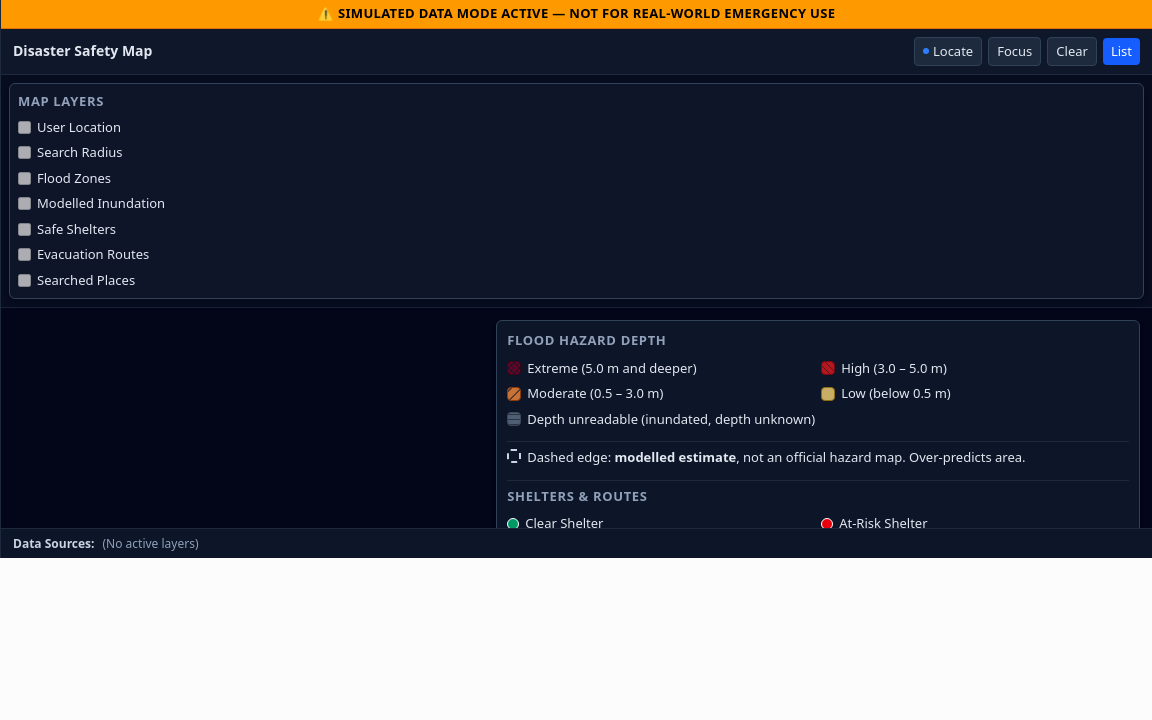
Test: MapPane Component (Phase 9, Checkpoint 9) › Locate reports why it could not get a position (R1.2) › surfaces a blocked permission instead of doing nothing
This screenshot has width=1152, height=720.
Step 1. Click the button with test id "map-btn-locate" → {"x": 948, "y": 51}, box [914, 36, 982, 66]
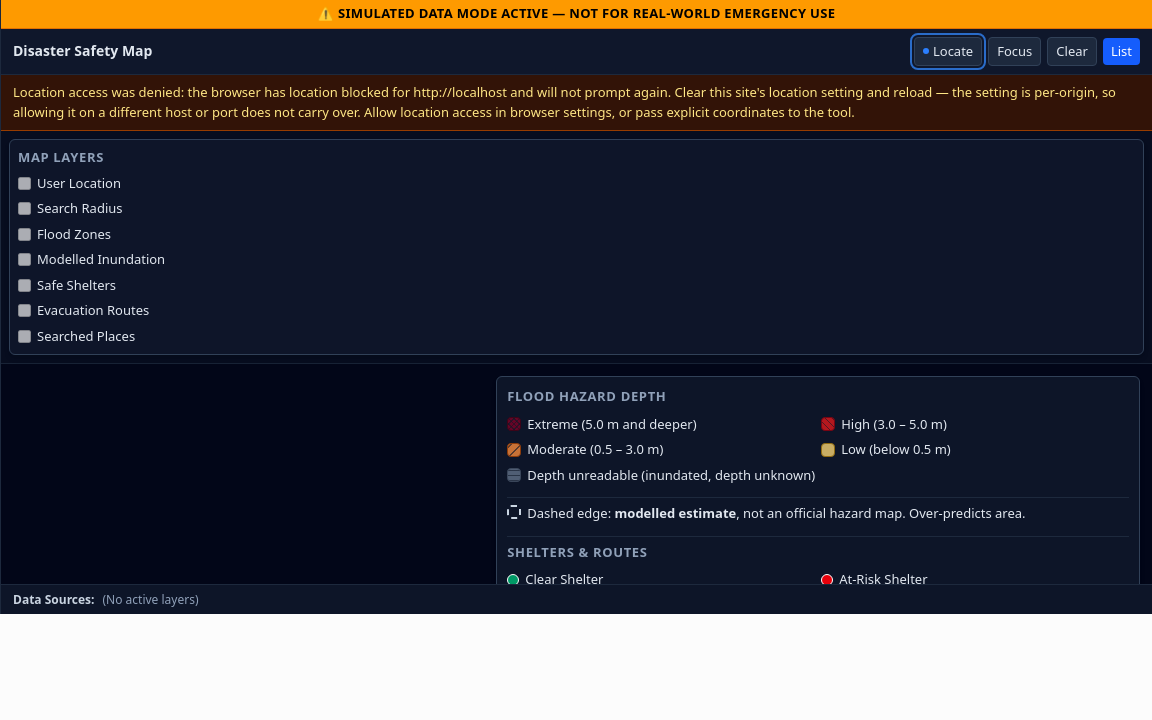
Expected: the message with test id "map-locate-error" shows "http://localhost", [13, 83, 1116, 120]
Expected: the message with test id "map-locate-error" shows "will not prompt again", [13, 83, 1116, 120]
